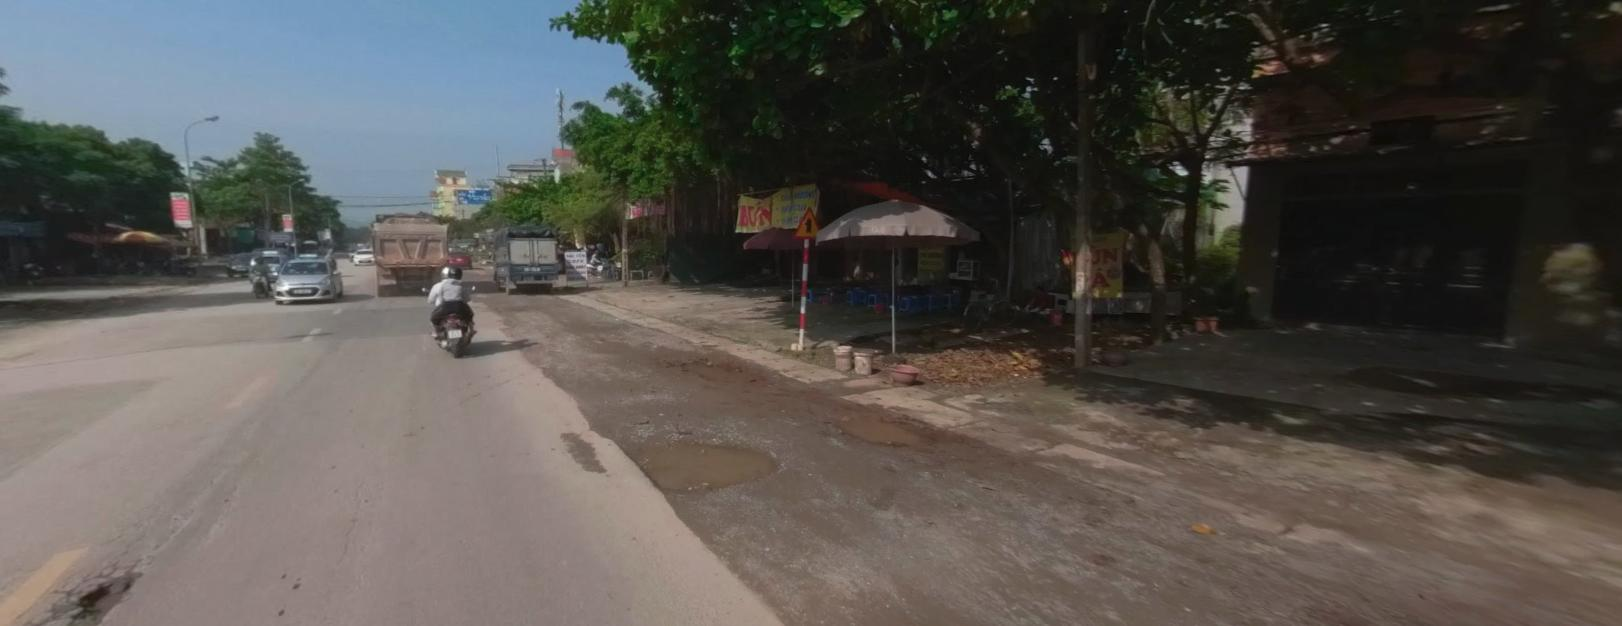Nguy hiem: (791, 204, 825, 237)
